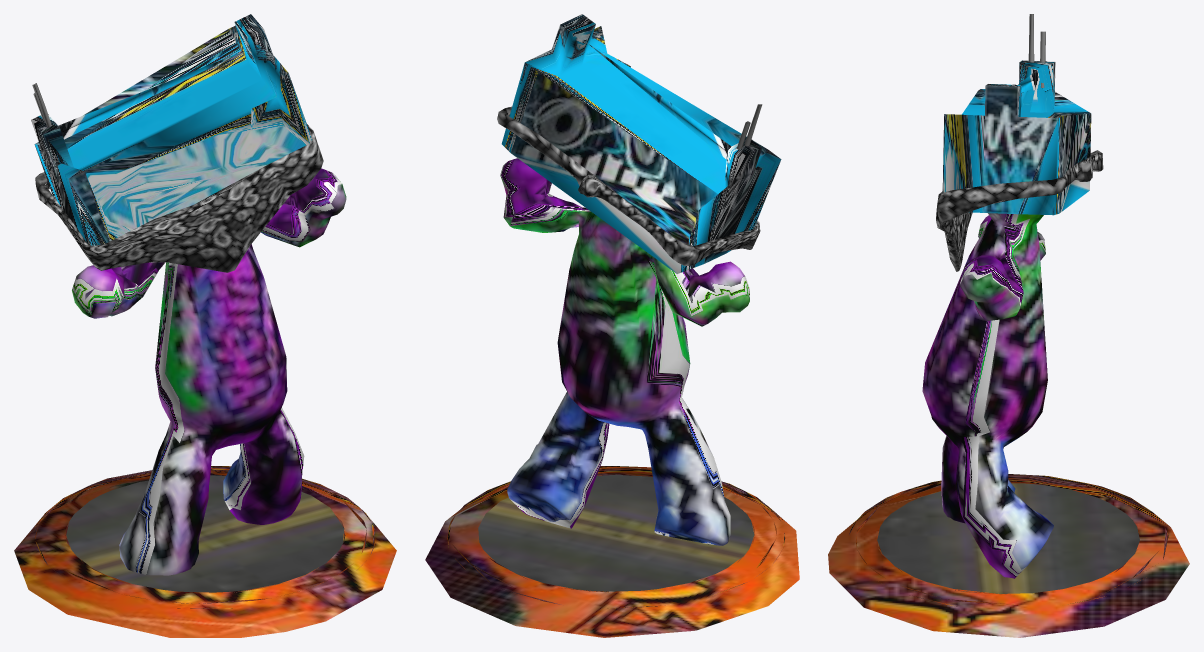
The picture shows the model from 3 angles, left to right: view 1: azimuth 30°, elevation 25°; view 2: azimuth 150°, elevation 25°; view 3: azimuth 270°, elevation 25°; orthographic projection. The views are drawn at different scales.
Size of the model in its own units: 1.44 by 2.19 by 1.44.
6 materials, 5 textured.
